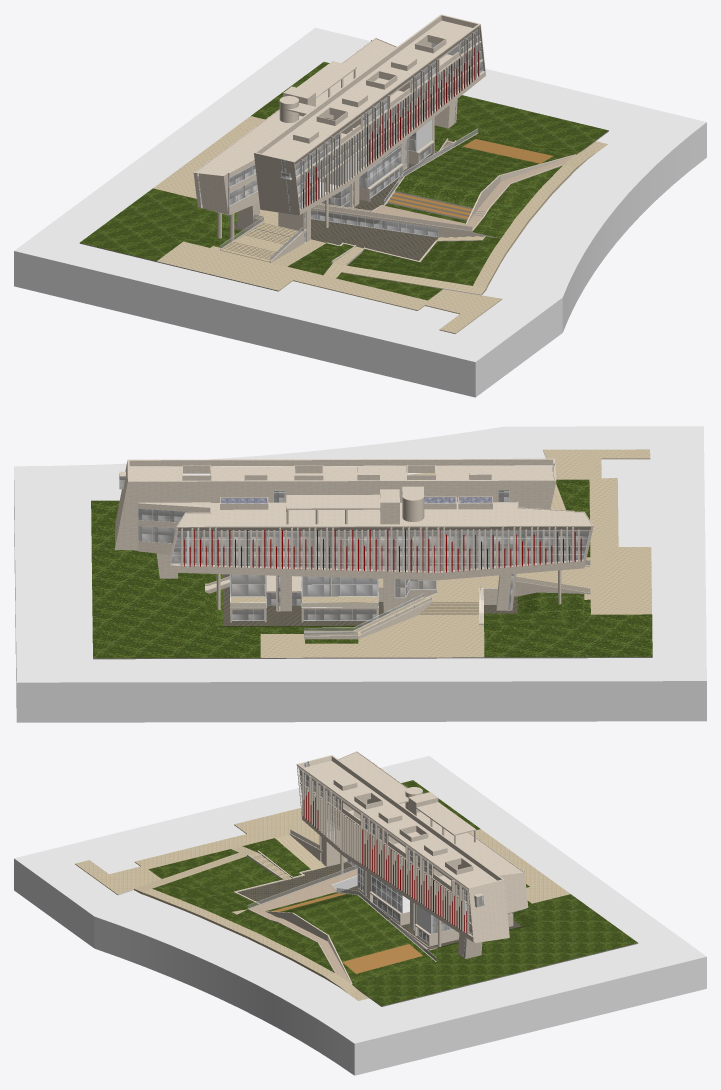
Rendered from SUP_facultad_de_enfermeria_unal_colombia.glb.
3 views of the same model, one above another, from view 1: azimuth 30°, elevation 25°; view 2: azimuth 150°, elevation 25°; view 3: azimuth 270°, elevation 25° (orthographic). The views are drawn at different scales.
Visible parts, largest first — view 1: SUP_facultad_de_enfermeria_unal_colombia; view 2: SUP_facultad_de_enfermeria_unal_colombia; view 3: SUP_facultad_de_enfermeria_unal_colombia.
Boxes of the visible parts, <box> form: SUP_facultad_de_enfermeria_unal_colombia: <box>14,14,706,397</box>; SUP_facultad_de_enfermeria_unal_colombia: <box>14,426,706,722</box>; SUP_facultad_de_enfermeria_unal_colombia: <box>14,751,706,1075</box>.
Bounding box in the file's own units: 6319 × 1354 × 6428.
Materials: 17 (14 with a texture image).
